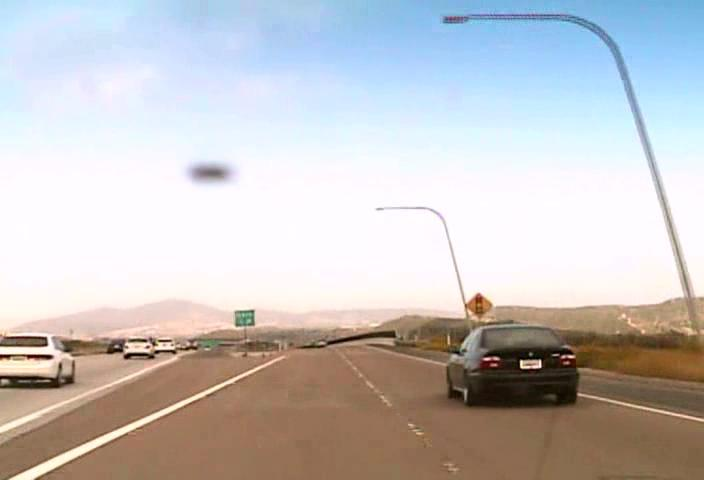signalAhead: (463, 292, 493, 318)
